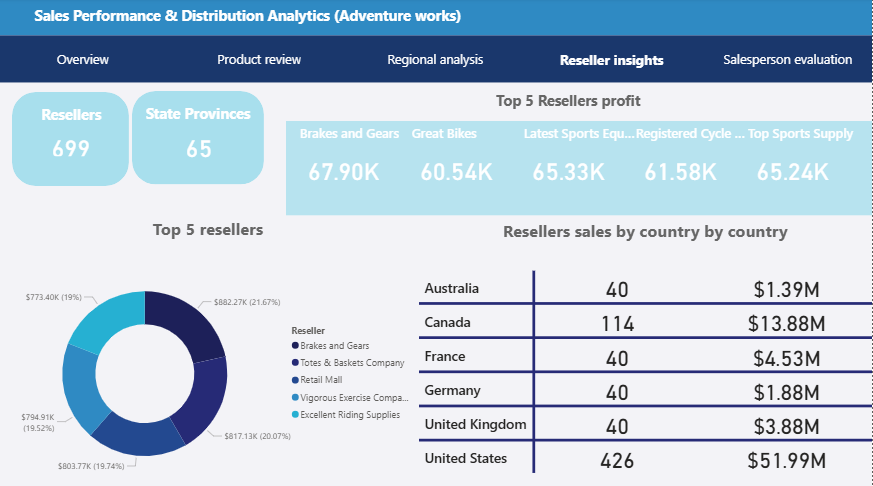

Layout of this report page (visuals, bound fields, positions):
{"tool":"powerbi","page":{"name":"Reseller insights","canvas":[1280,720],"ordinal":3},"visuals":[{"type":"group","id":"g1","title":"Group 6","box":[0,0,1280.5,122.9],"z":0},{"type":"shape","box":[0,0,1280,55.4],"z":1000,"group":"g1"},{"type":"shape","box":[196.5,136.7,193.1,136.7],"z":1000},{"type":"textbox","box":[36,0,658,55.7],"z":2000,"group":"g1"},{"type":"shape","box":[20.5,137.6,171.2,137.6],"z":2000},{"type":"bookmarkNavigator","box":[0,55.9,1280,67.7],"z":3000,"group":"g1"},{"type":"textbox","box":[196.5,148.7,193.1,44.4],"z":3000},{"type":"treemap","fields":{"Group":["Reseller.Reseller"],"Values":["Sum(Sales.Sales)"]},"box":[0,378.5,614.5,341.6],"z":4000},{"type":"cardVisual","fields":{"Data":["Count(Reseller.State-Province)"]},"box":[252.9,176,82,78.6],"z":5000},{"type":"cardVisual","fields":{"Data":["Count(Reseller.Reseller)"]},"box":[59.8,176,94,61.5],"z":6000},{"type":"cardVisual","fields":{"Data":["Count(Reseller.Reseller)","Sum(Sales.Sales)"],"Rows":["Reseller.Country-Region"]},"box":[616.2,378.5,663.8,341.6],"z":7000},{"type":"textbox","box":[39.2,150.5,135.2,40.5],"z":8000},{"type":"textbox","box":[714.8,318.7,466.6,45.8],"z":9000},{"type":"textbox","box":[191.7,316.1,231.2,48.3],"z":10000},{"type":"cardVisual","fields":{"Rows":["Reseller.Reseller"],"Data":["Sales.Profit"]},"box":[422.1,179.4,857.9,138.4],"z":11000},{"type":"textbox","box":[685.3,129.9,299.1,49.6],"z":12000}]}

Visuals, with their boxes in screenshot pixels (x1, y1, x2, y2), scaled from the page's 1280x720 canvas onto the 873x486 screenshot:
"Group 6" group: (left=0, top=0, right=872, bottom=83)
shape: (left=0, top=0, right=872, bottom=37)
shape: (left=134, top=92, right=266, bottom=185)
textbox: (left=25, top=0, right=473, bottom=38)
shape: (left=14, top=93, right=131, bottom=186)
bookmarkNavigator: (left=0, top=38, right=872, bottom=83)
textbox: (left=134, top=100, right=266, bottom=130)
treemap - Reseller.Reseller x Sum(Sales.Sales): (left=0, top=255, right=419, bottom=485)
cardVisual - Count(Reseller.State-Province): (left=172, top=119, right=228, bottom=172)
cardVisual - Count(Reseller.Reseller): (left=41, top=119, right=105, bottom=160)
cardVisual - Count(Reseller.Reseller) x Sum(Sales.Sales): (left=420, top=255, right=872, bottom=485)
textbox: (left=27, top=102, right=119, bottom=129)
textbox: (left=488, top=215, right=806, bottom=246)
textbox: (left=131, top=213, right=288, bottom=246)
cardVisual - Reseller.Reseller x Sales.Profit: (left=288, top=121, right=872, bottom=215)
textbox: (left=467, top=88, right=671, bottom=121)
